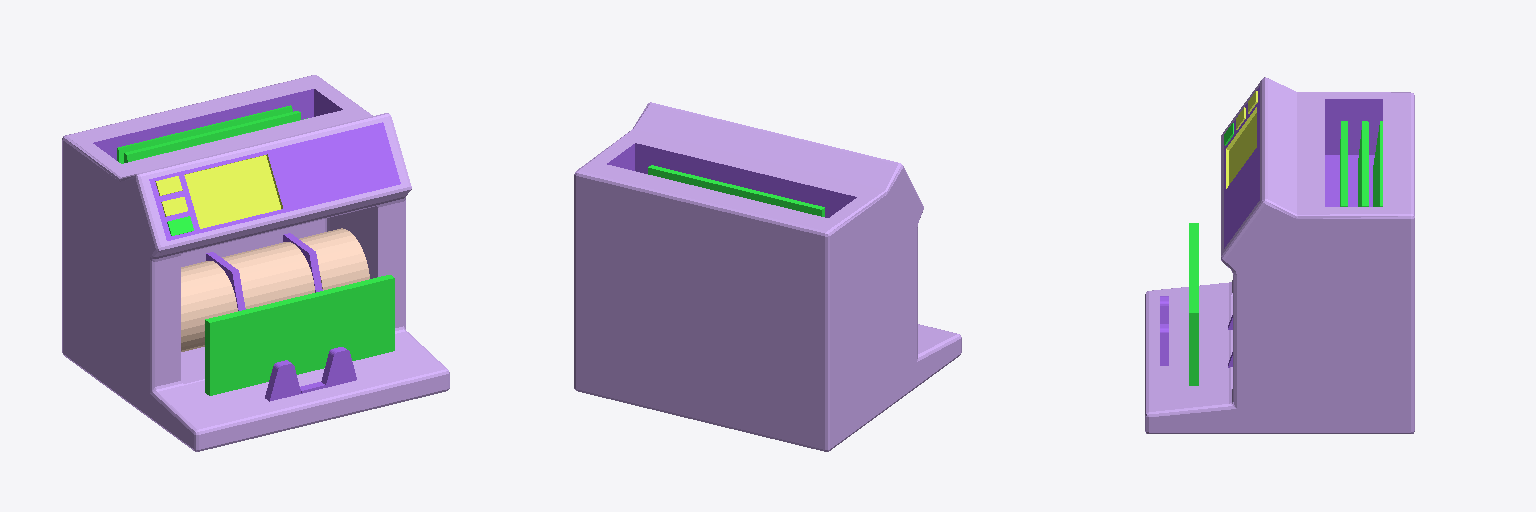
The model's file is moneymachine_6.obj.
The picture shows the model from 3 angles: view 1: azimuth 30°, elevation 25°; view 2: azimuth 150°, elevation 25°; view 3: azimuth 270°, elevation 25°; orthographic projection.
Visible parts, largest first — view 1: Cube.148_Material.010, Cube.148_Material.002, Cube.148_Material.017, Cube.148_Material.015, Cube.148_Material; view 2: Cube.148_Material.010, Cube.148_Material.017, Cube.148_Material.002; view 3: Cube.148_Material.010, Cube.148_Material.017, Cube.148_Material.002, Cube.148_Material.
Part boxes in pixels (left/top/right/bottom): Cube.148_Material.010: left=62, top=75, right=449, bottom=451; Cube.148_Material.002: left=117, top=105, right=394, bottom=395; Cube.148_Material.017: left=93, top=89, right=400, bottom=401; Cube.148_Material.015: left=181, top=228, right=369, bottom=351; Cube.148_Material: left=155, top=154, right=282, bottom=228; Cube.148_Material.010: left=574, top=102, right=961, bottom=451; Cube.148_Material.017: left=607, top=143, right=856, bottom=217; Cube.148_Material.002: left=648, top=165, right=824, bottom=216; Cube.148_Material.010: left=1145, top=77, right=1414, bottom=433; Cube.148_Material.017: left=1160, top=86, right=1382, bottom=367; Cube.148_Material.002: left=1189, top=121, right=1382, bottom=385; Cube.148_Material: left=1226, top=91, right=1257, bottom=188.
Size of the model in its own units: 13.16 by 11.57 by 12.03.